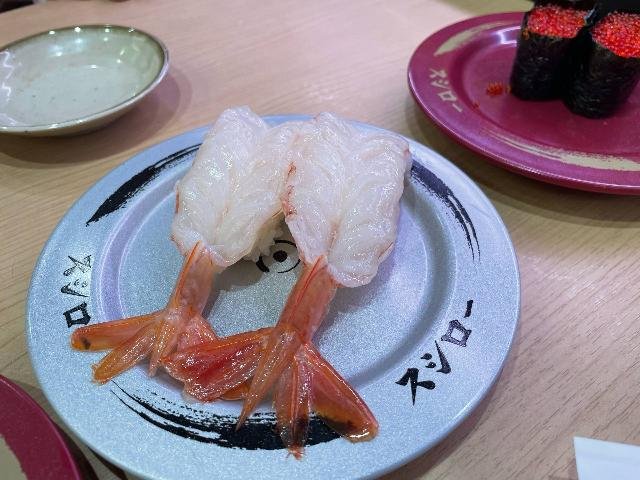janwhite: (23, 182, 163, 463), (413, 154, 524, 439), (132, 409, 486, 480)
